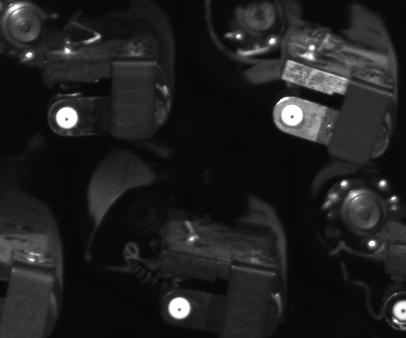fiber: (52, 103, 84, 132), (164, 294, 194, 324), (278, 102, 307, 130), (389, 297, 406, 324)
